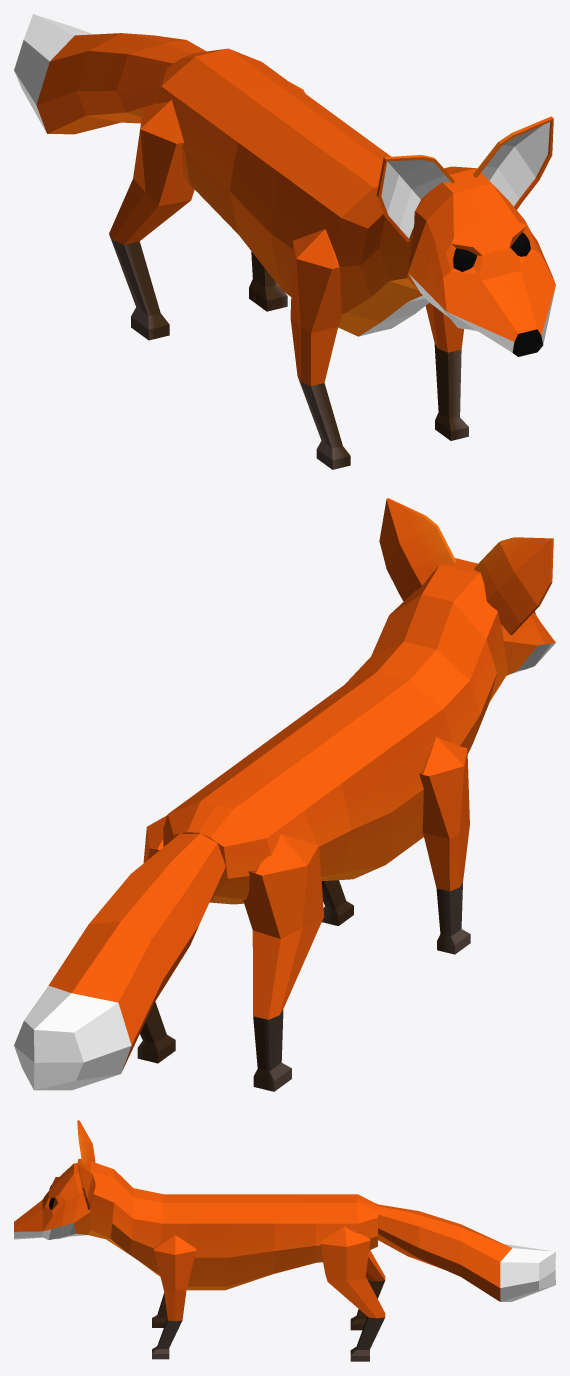
File: Fox (1).fbx
3 renders of one model, top to bottom at view 1: azimuth 30°, elevation 25°; view 2: azimuth 150°, elevation 25°; view 3: azimuth 270°, elevation 25°, orthographic. The views are drawn at different scales.
Visible parts, largest first — view 1: Sphere; view 2: Sphere; view 3: Sphere.
Part boxes in pixels (x1=…): Sphere: x1=14, y1=14, x2=555, y2=469; Sphere: x1=14, y1=498, x2=555, y2=1091; Sphere: x1=14, y1=1120, x2=555, y2=1361.
Bounding box in the file's own units: 283 × 573 × 1402.
1 material, 1 textured.
